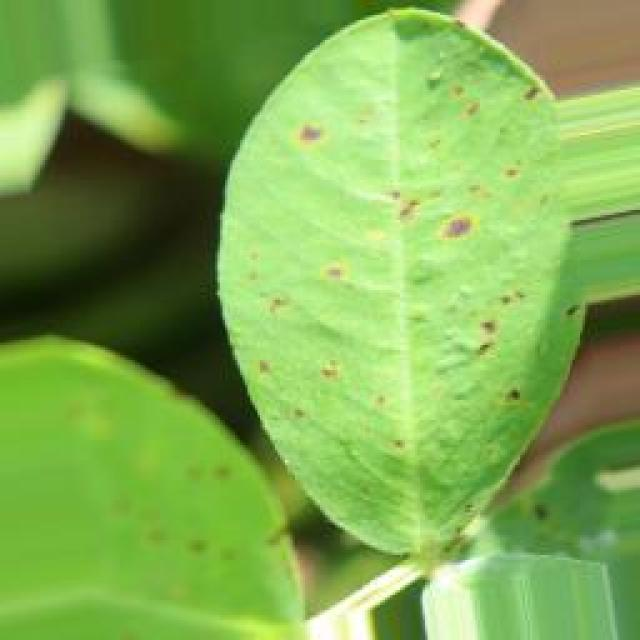Sigatoka: (311, 343, 423, 481), (361, 165, 497, 268), (434, 306, 540, 433), (430, 78, 510, 170), (282, 229, 382, 289), (286, 97, 348, 183)
